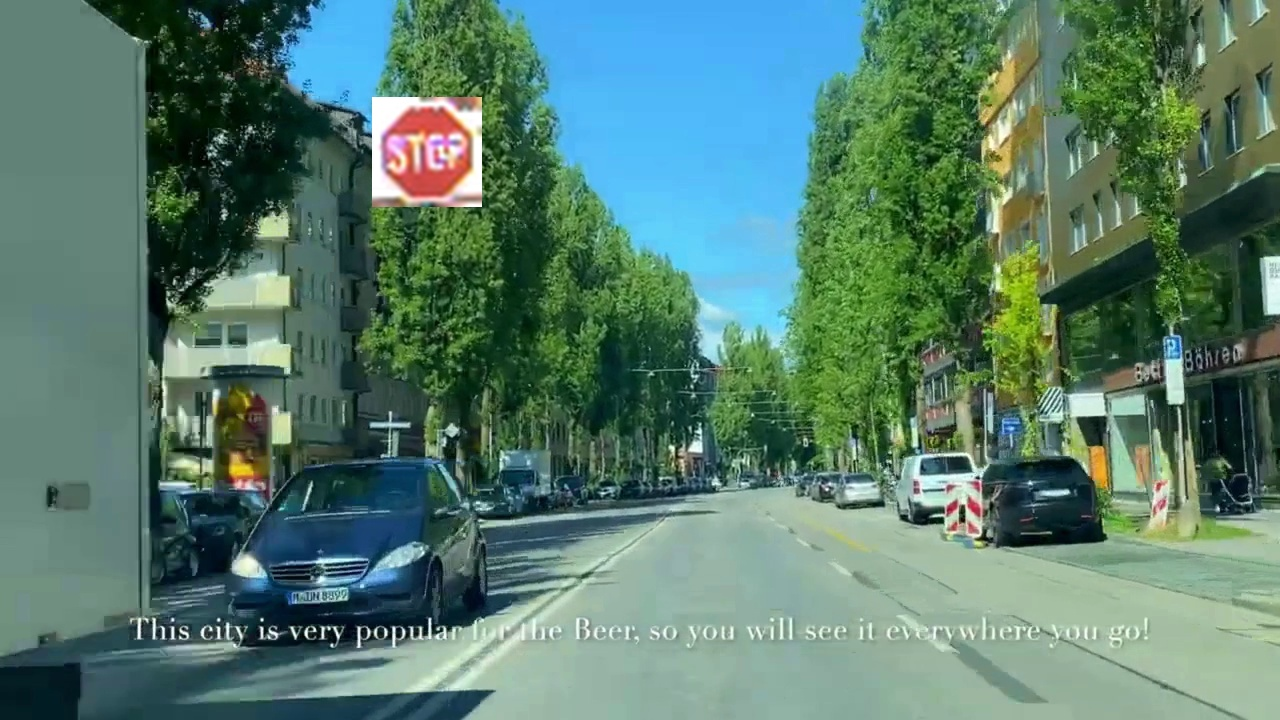Stop: (372, 97, 482, 207)
